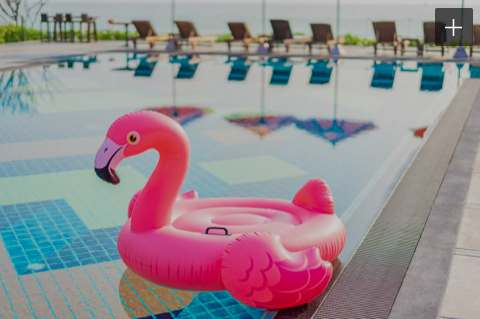Flamingo: (90, 108, 349, 314)
